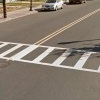crosswalk: (0, 41, 100, 73)
